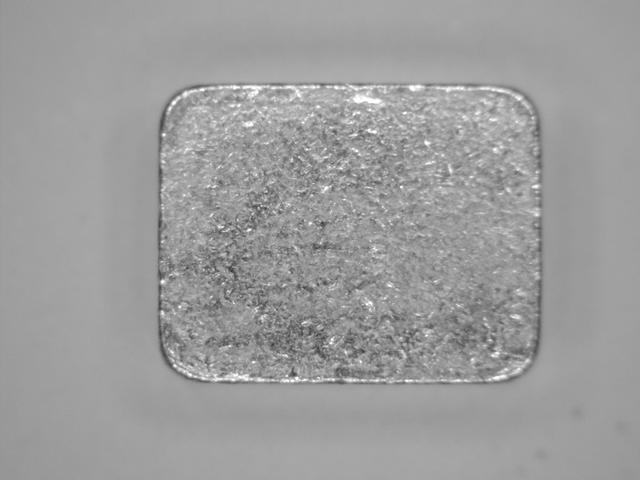ok: (151, 76, 546, 391)
